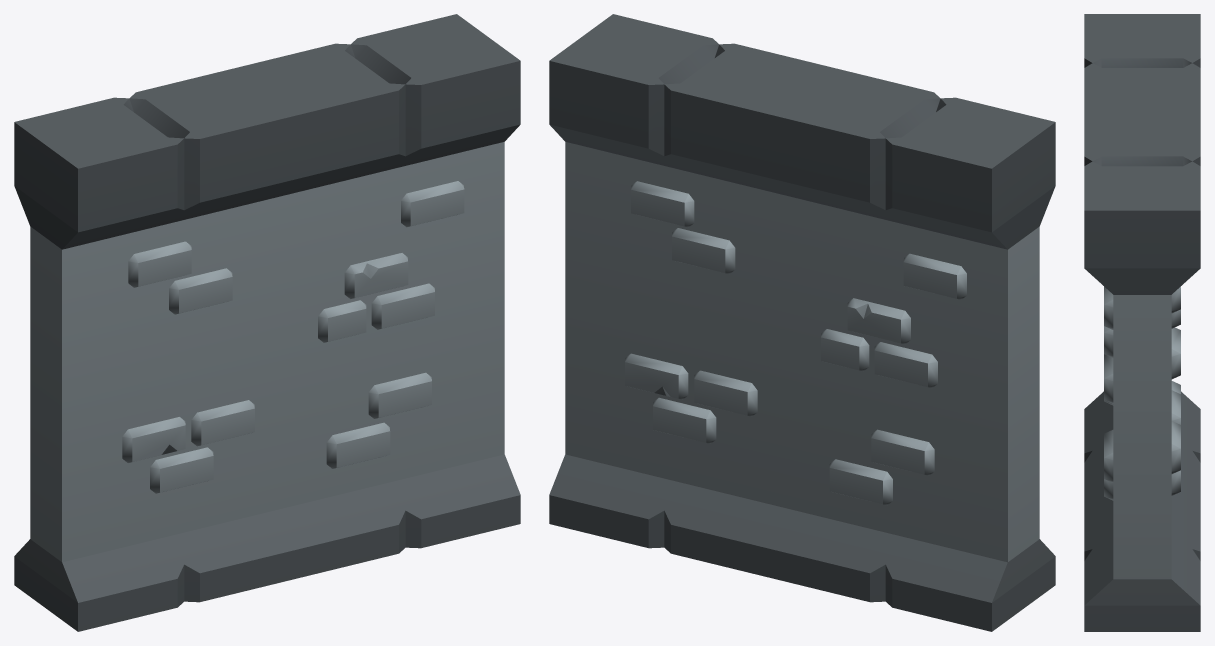
The model's file is wall.glb.
The picture shows the model from 3 angles, left to right: view 1: azimuth 30°, elevation 25°; view 2: azimuth 150°, elevation 25°; view 3: azimuth 270°, elevation 25°; orthographic projection. The views are drawn at different scales.
Visible parts, largest first — view 1: wall; view 2: wall; view 3: wall.
Boxes of the visible parts, left/top/right/bottom form: wall: left=14, top=14, right=520, bottom=631; wall: left=549, top=14, right=1055, bottom=631; wall: left=1084, top=14, right=1200, bottom=631.
Size of the model in its own units: 2 by 2 by 0.5.
Materials: 1 (1 with a texture image).
